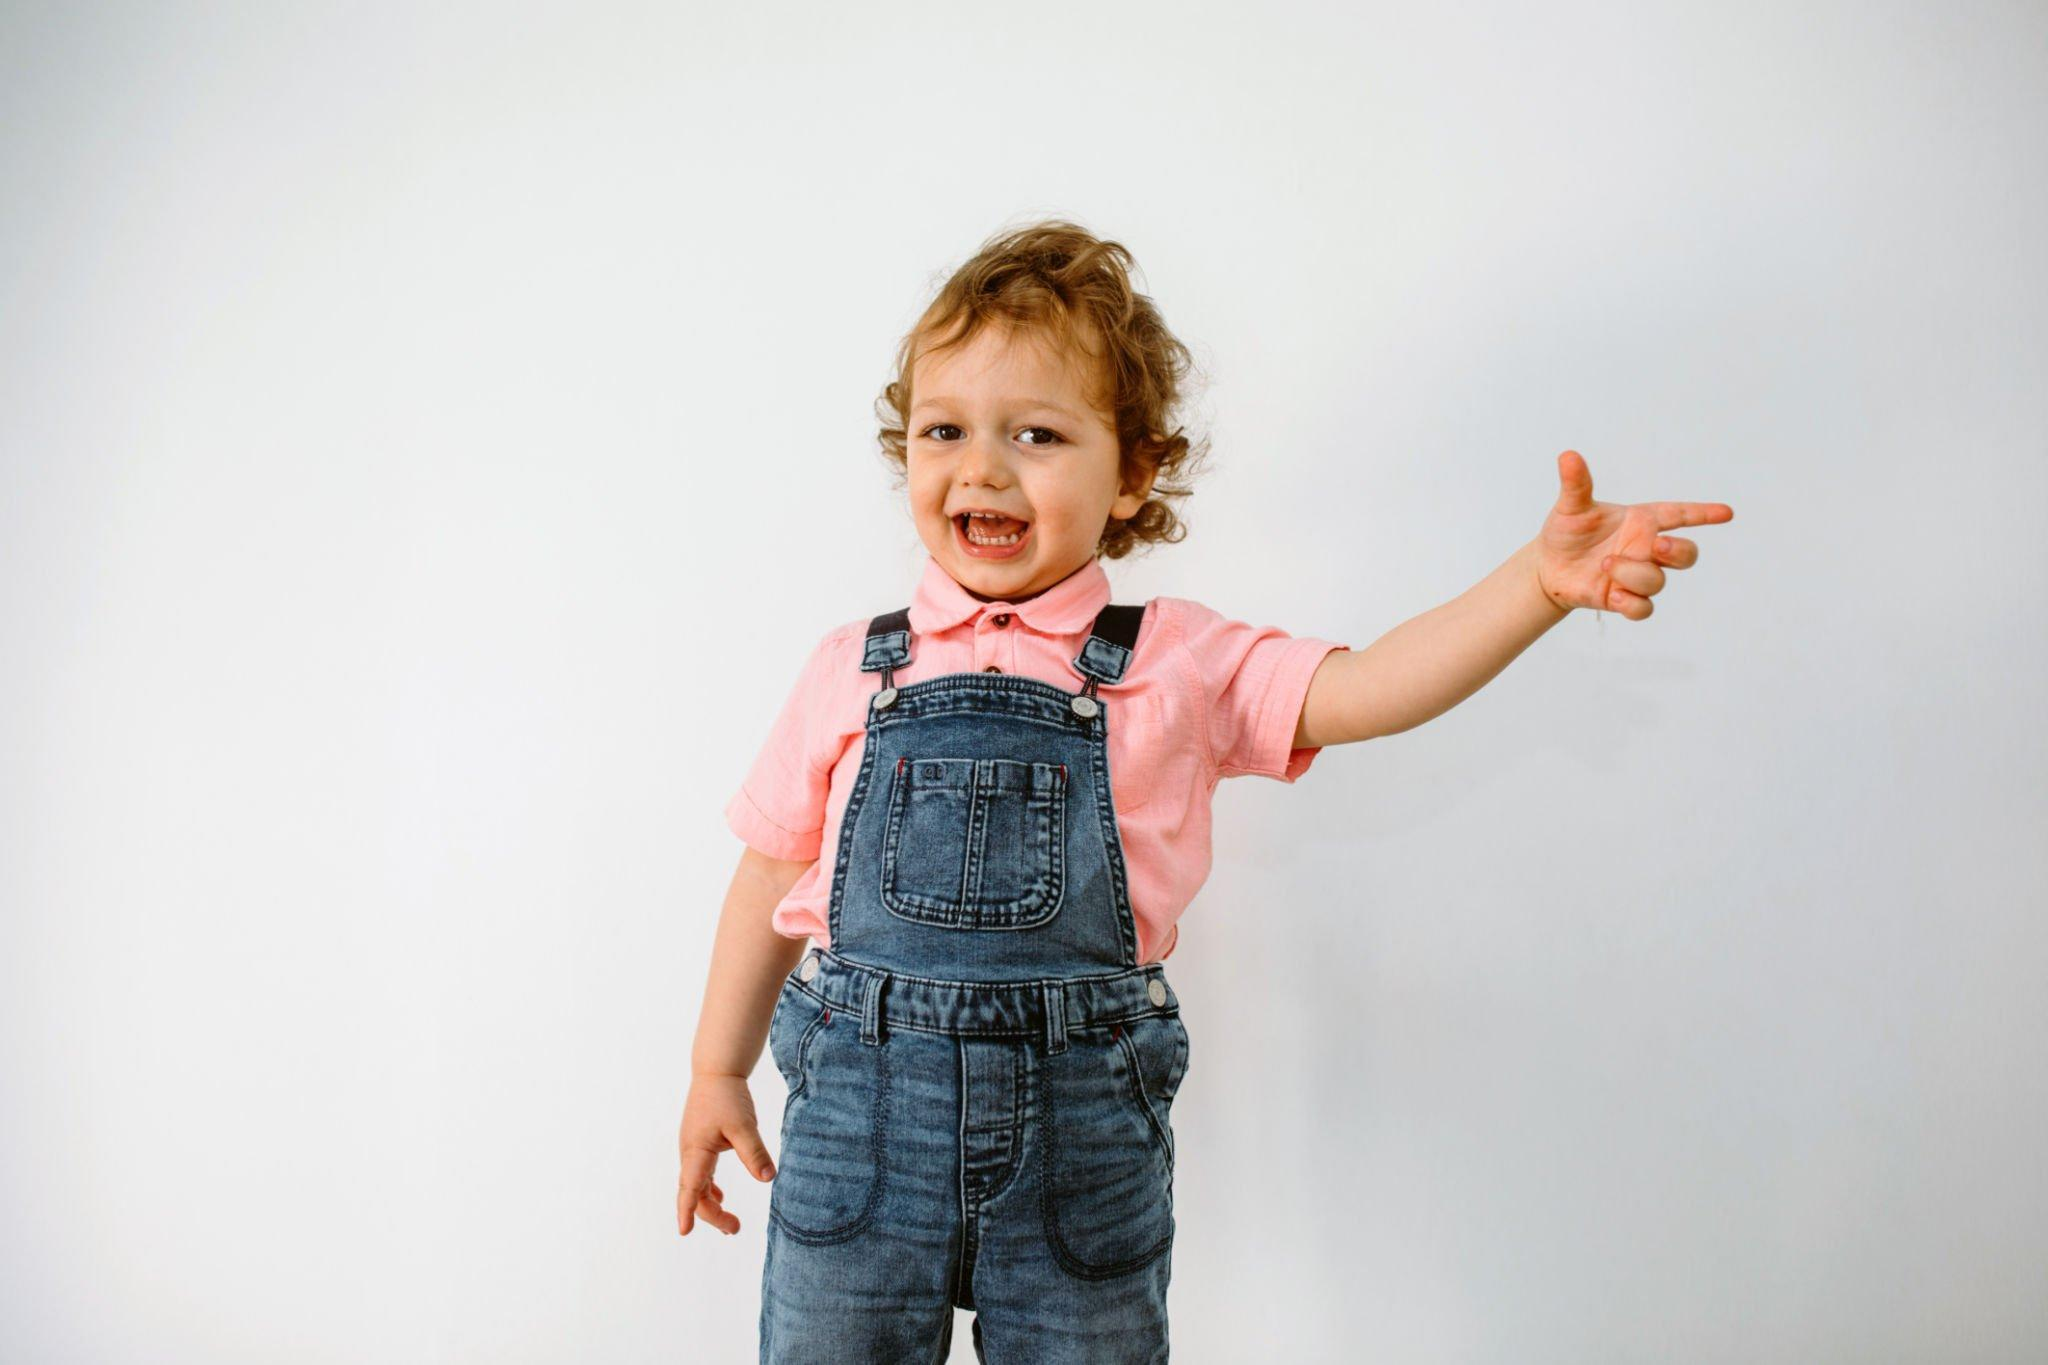Healthy: (836, 227, 1215, 643)
